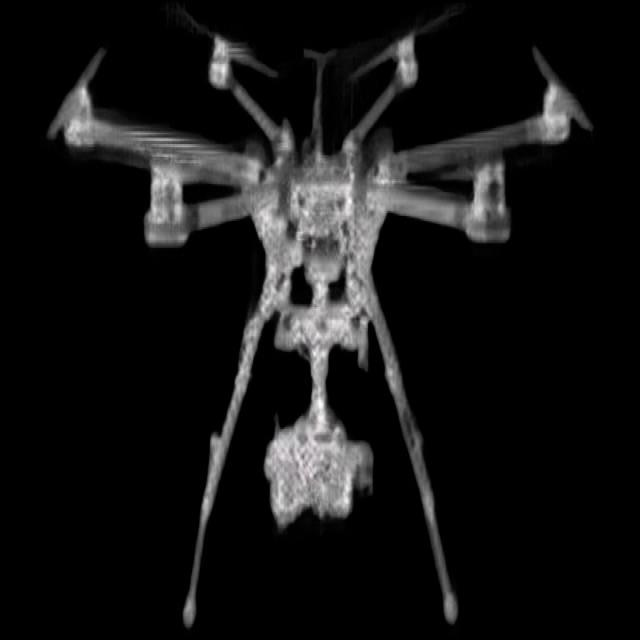drone: (31, 5, 618, 640)
